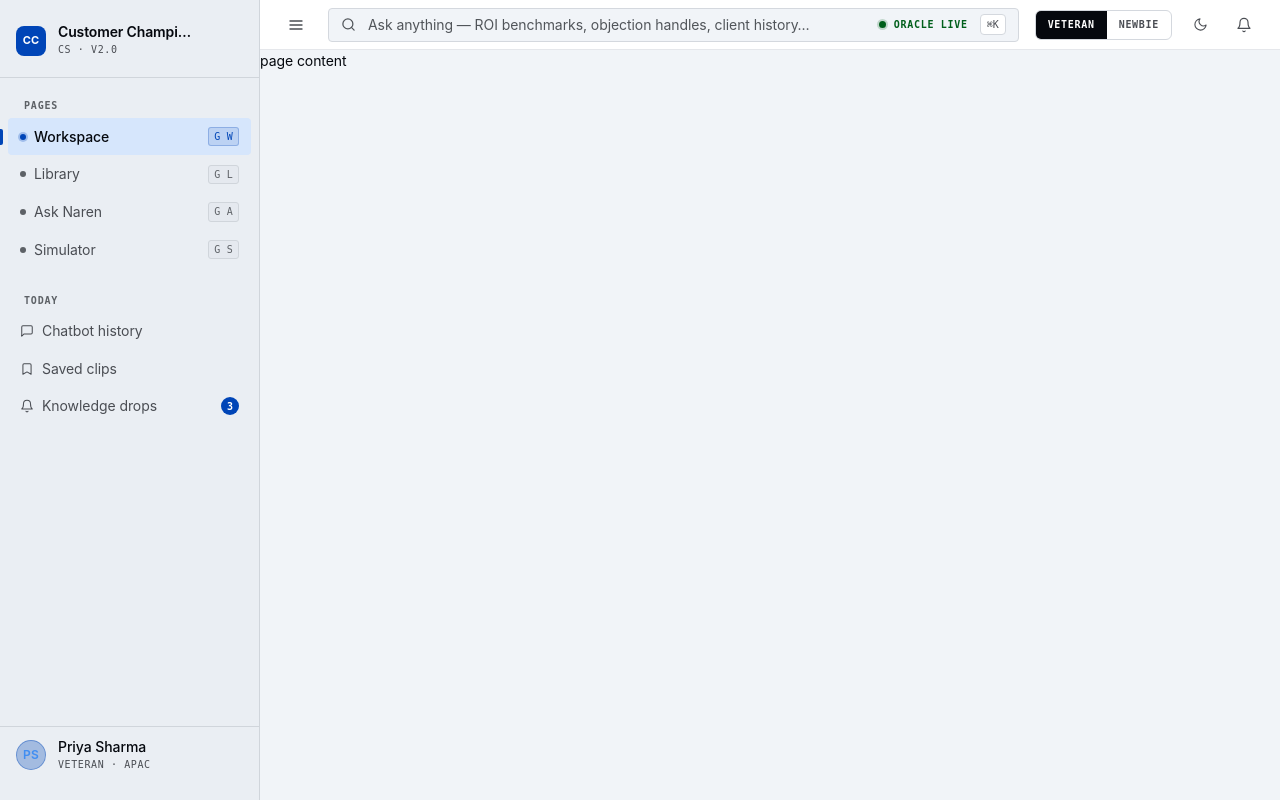
AppShell oracle › navigates the list with the arrow keys and selects with Enter
This screenshot has width=1280, height=800.
Click the dropdown named "Knowledge Oracle".
click(617, 25)  # box left=368, top=14, right=867, bottom=35
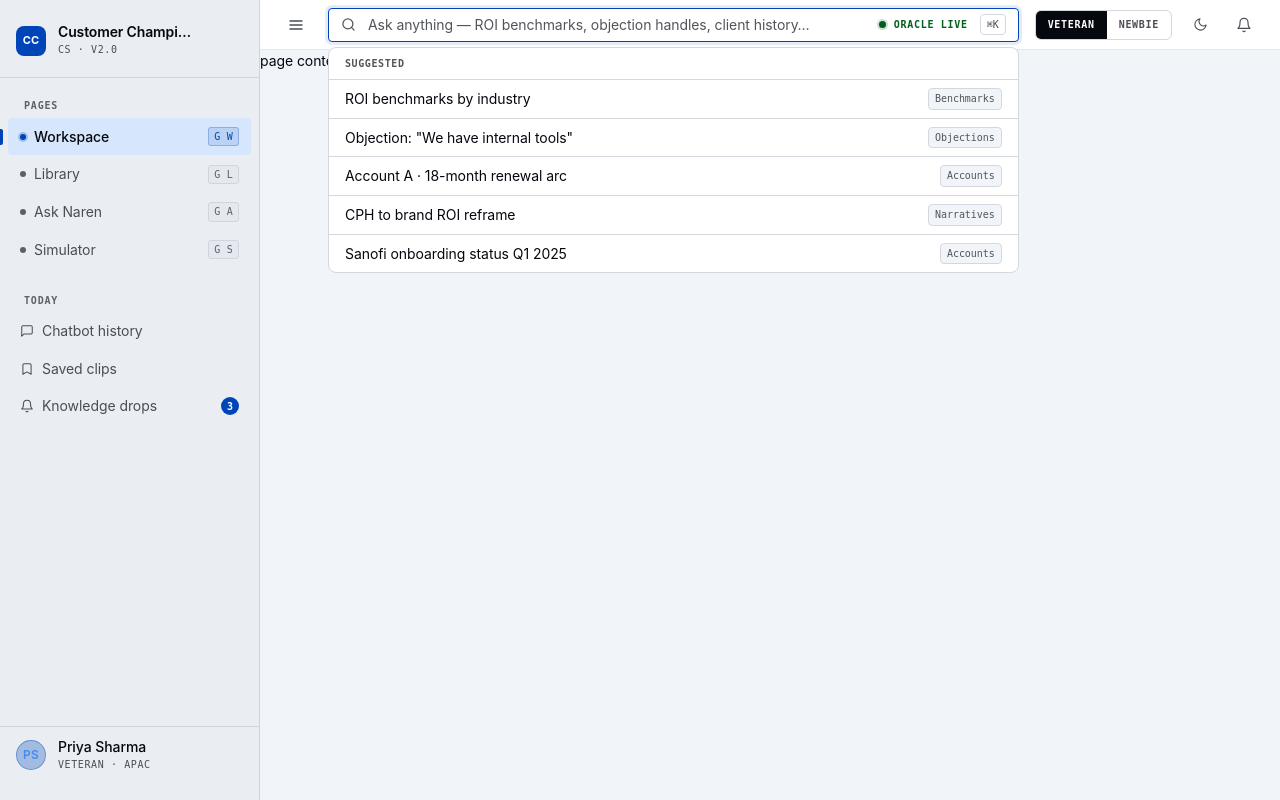
Press Arrowdown
Press Arrowdown
Press Arrowup
Press Enter
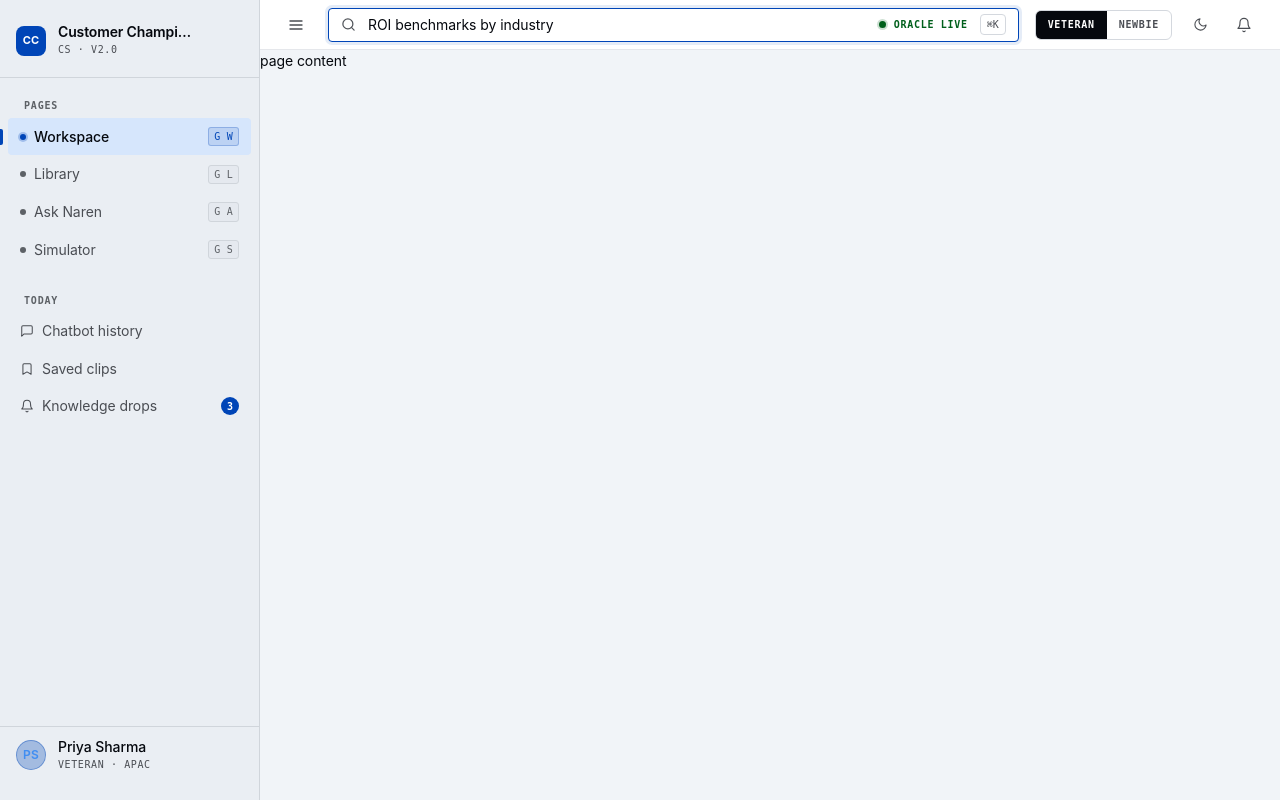
Check: the dropdown named "Knowledge Oracle" holds "ROI benchmarks by industry", box left=368, top=14, right=867, bottom=35
Check: the list is gone
